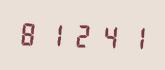eight: (18, 17, 42, 48)
four: (93, 20, 117, 51)
one: (43, 18, 67, 49), (118, 21, 142, 52)
two: (68, 19, 92, 50)
